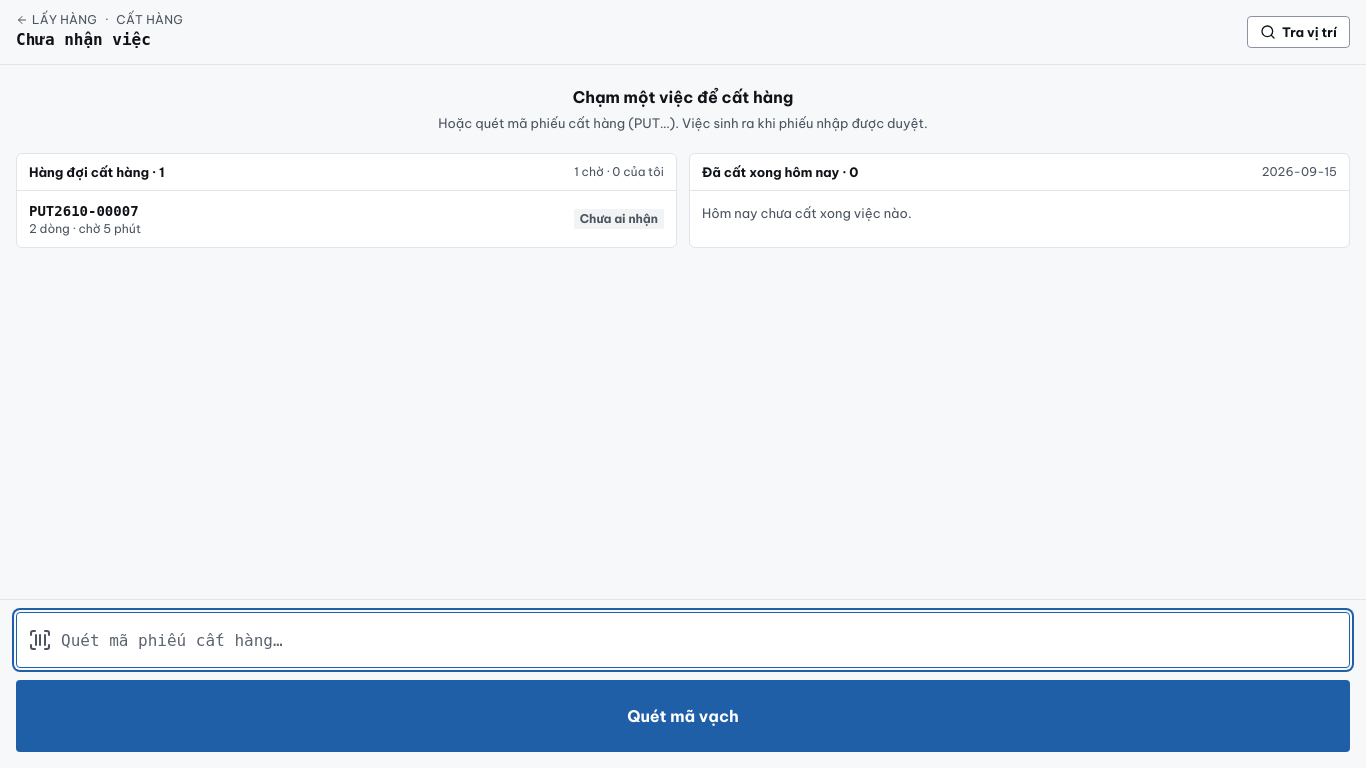
Scenario: Màn cất hàng web (LOC-6) — giỏ thùng → quét vị trí → cất › quét vị trí khi giỏ trống → nhắc quét thùng trước, không gửi
Click the button with aria-label "Mở PUT2610-00007". click: (84, 211)
box: x1=17 y1=191 x2=676 y2=247
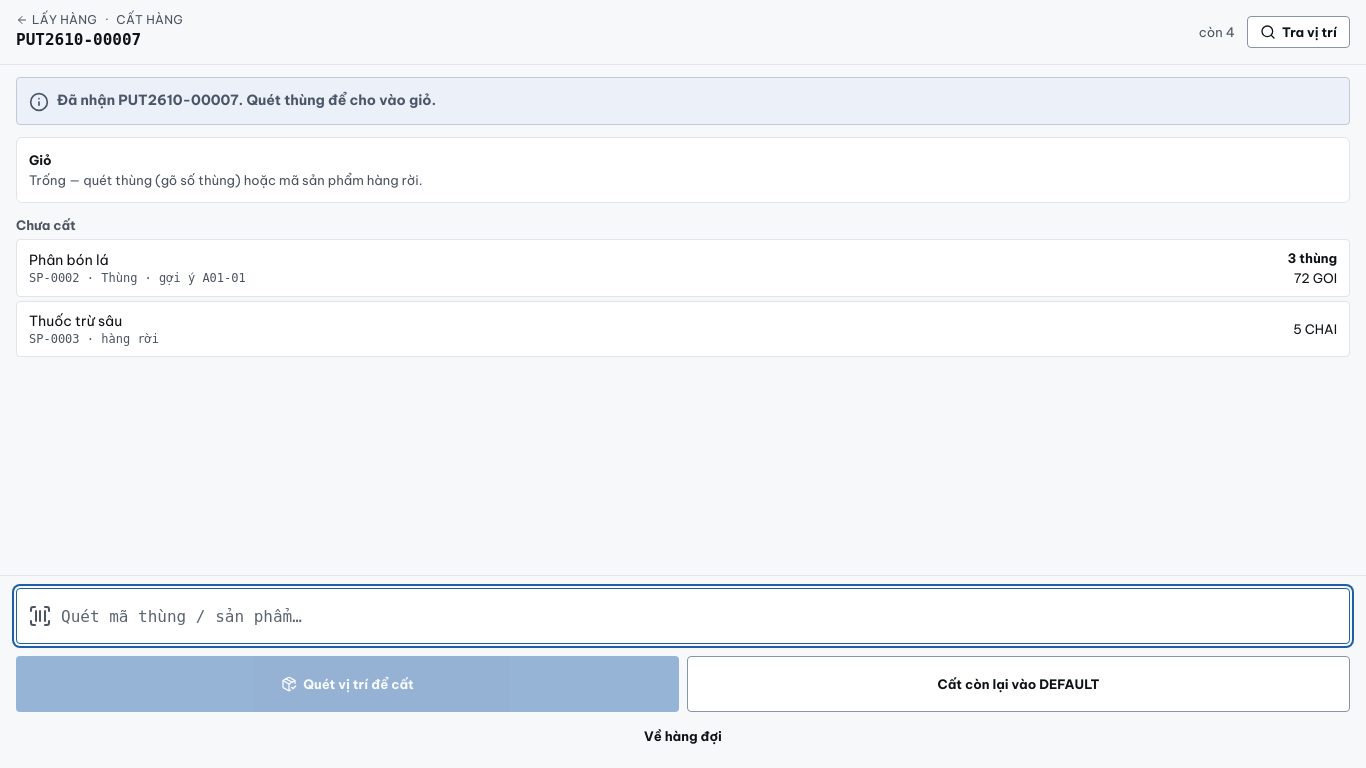
Expected: the element "Chưa cất" is shown, x1=16 y1=215 x2=1350 y2=357
Type "LOC-A01-05" into the field labelled "Quét mã thùng / sản phẩm…". click: (683, 616)
box: x1=16 y1=588 x2=1350 y2=644
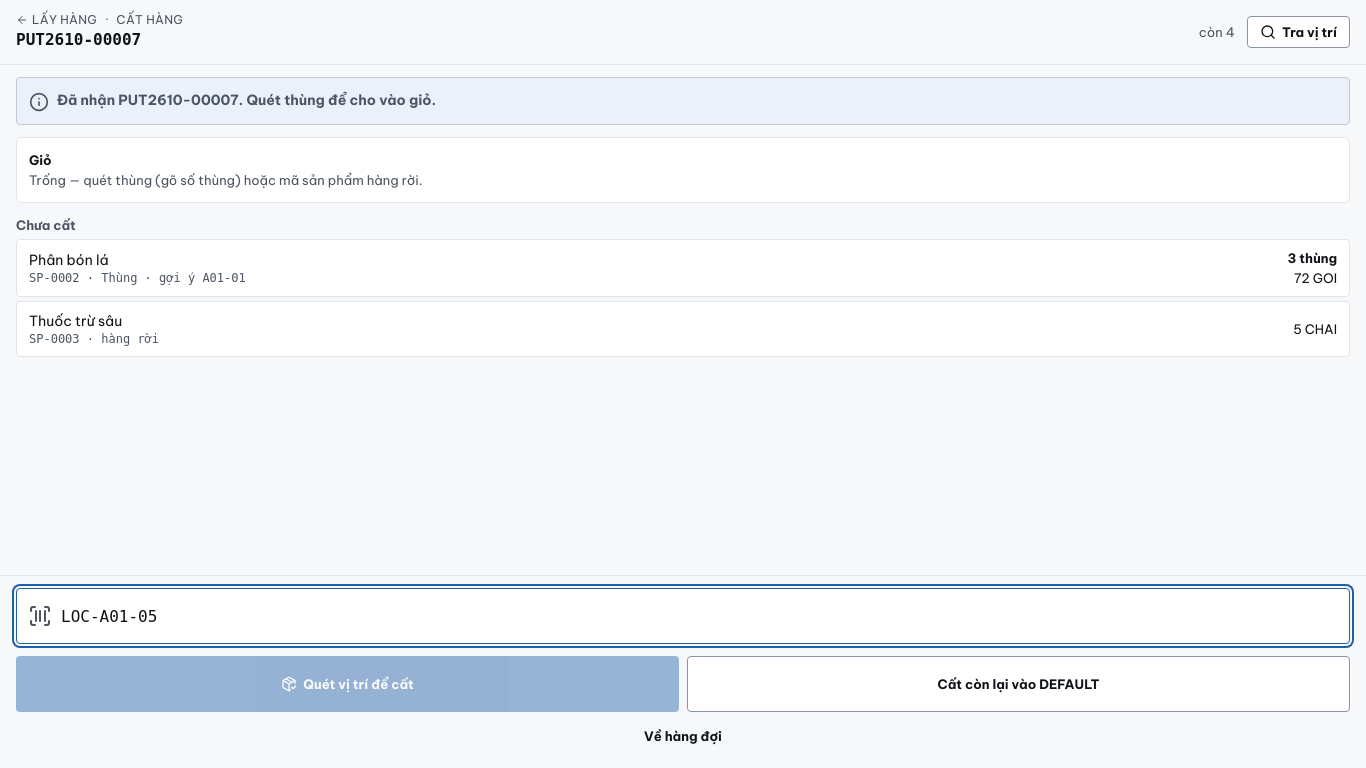
Press Enter in the field named "Quét", box x1=16 y1=588 x2=1350 y2=644
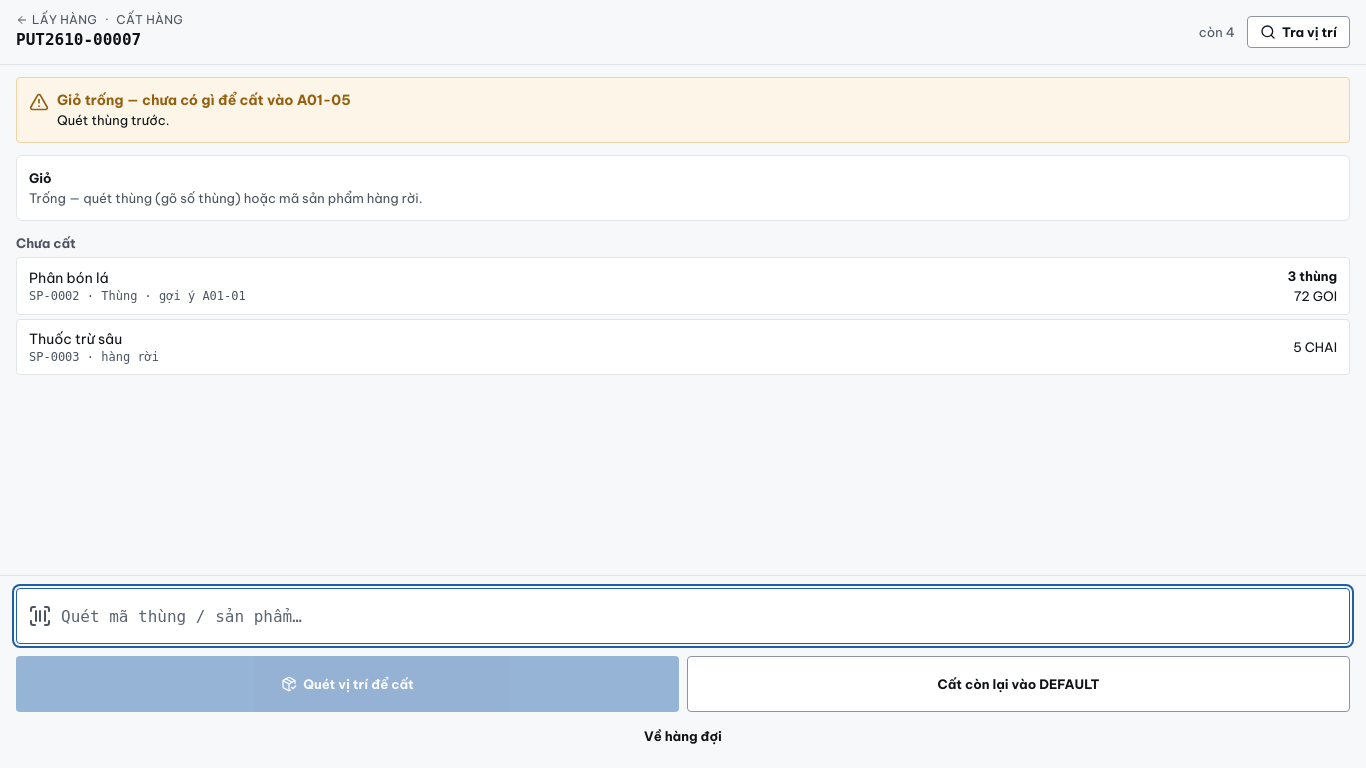
Expected: the text "Giỏ trống — chưa có gì để cất vào A01-05" is shown, x1=57 y1=90 x2=351 y2=110
